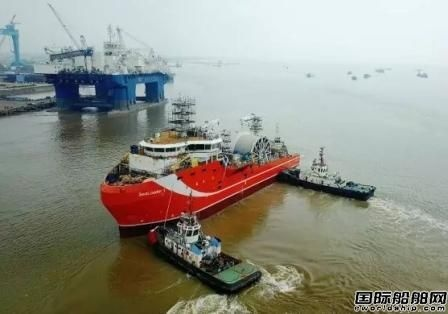otherboat: (150, 208, 262, 294), (281, 146, 377, 201)
warship: (95, 97, 301, 226)
